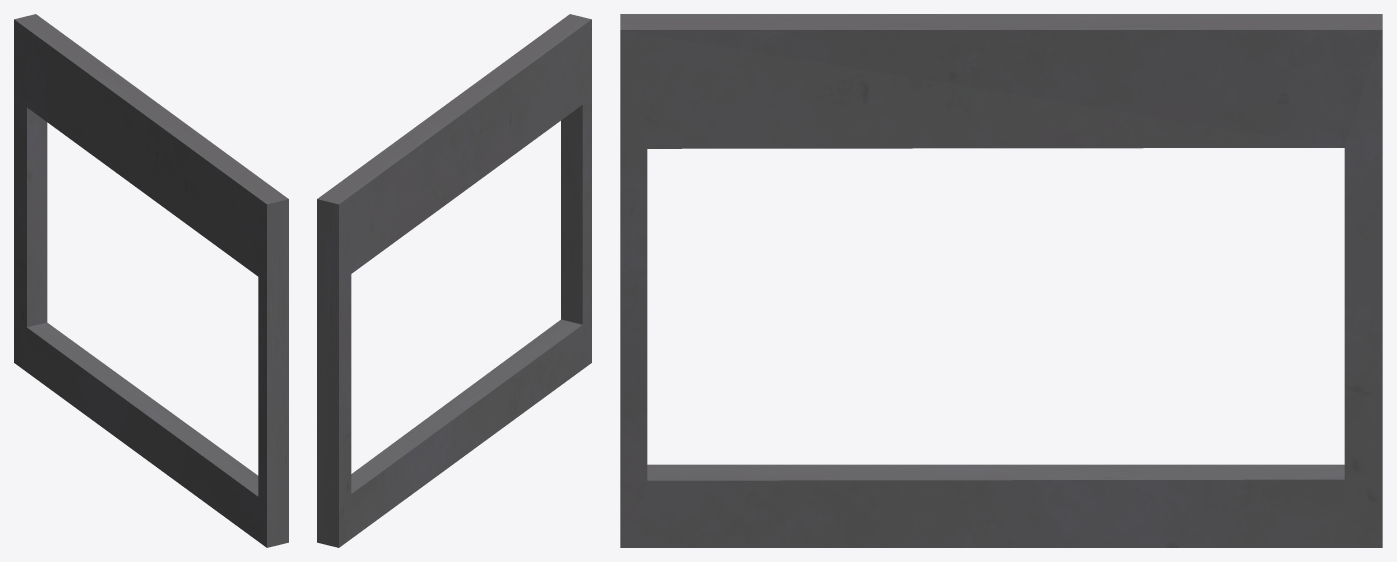
The model's file is okvir prozora novi.fbx.
3 views of the same model, side by side, from view 1: azimuth 30°, elevation 25°; view 2: azimuth 150°, elevation 25°; view 3: azimuth 270°, elevation 25° (orthographic). The views are drawn at different scales.
Visible parts, largest first — view 1: Cube_004; view 2: Cube_004; view 3: Cube_004.
Boxes of the visible parts, box(x1,y1,x2,y2) form: Cube_004: box(14, 14, 288, 547); Cube_004: box(317, 14, 591, 547); Cube_004: box(620, 14, 1382, 547).
Size of the model in its own units: 53.51 by 802 by 1070.
1 material, 1 textured.
